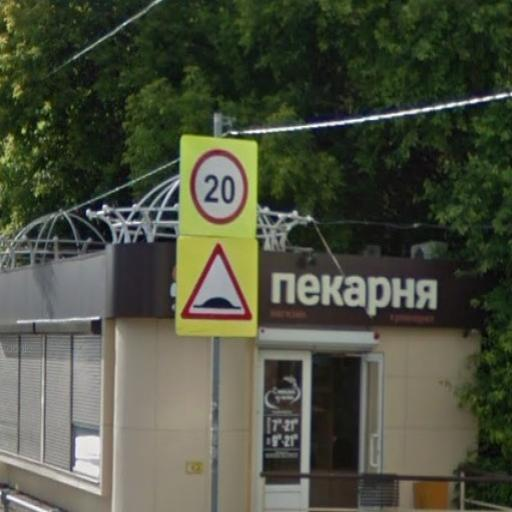traffic_sign: (178, 241, 258, 323), (189, 145, 253, 230)
